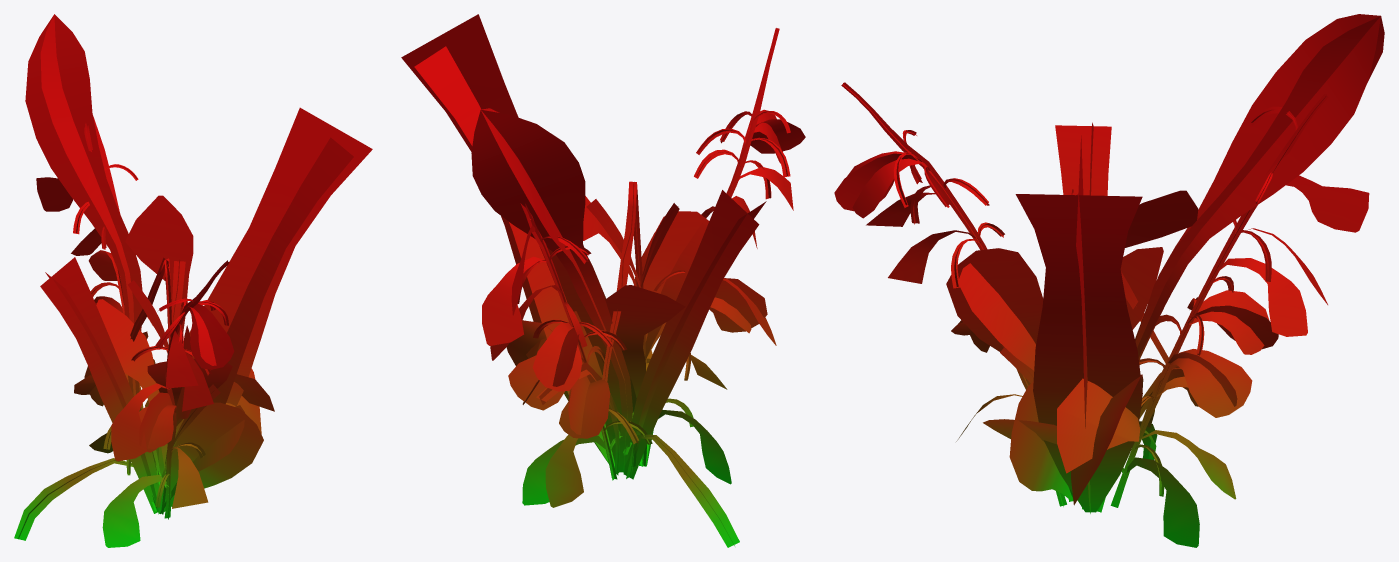
The model's file is Green Herb_LOD1_Var4_tbbpaier.fbx.
The picture shows the model from 3 angles, left to right: view 1: azimuth 30°, elevation 25°; view 2: azimuth 150°, elevation 25°; view 3: azimuth 270°, elevation 25°; orthographic projection. The views are drawn at different scales.
Parts seen in each view (by area): view 1: _e3a6_Var4_LOD1; view 2: _e3a6_Var4_LOD1; view 3: _e3a6_Var4_LOD1.
Boxes of the visible parts, x1=… form: _e3a6_Var4_LOD1: x1=14, y1=14, x2=372, y2=547; _e3a6_Var4_LOD1: x1=401, y1=14, x2=805, y2=547; _e3a6_Var4_LOD1: x1=834, y1=14, x2=1384, y2=547.
Bounding box in the file's own units: 11.55 × 14.32 × 13.64.
